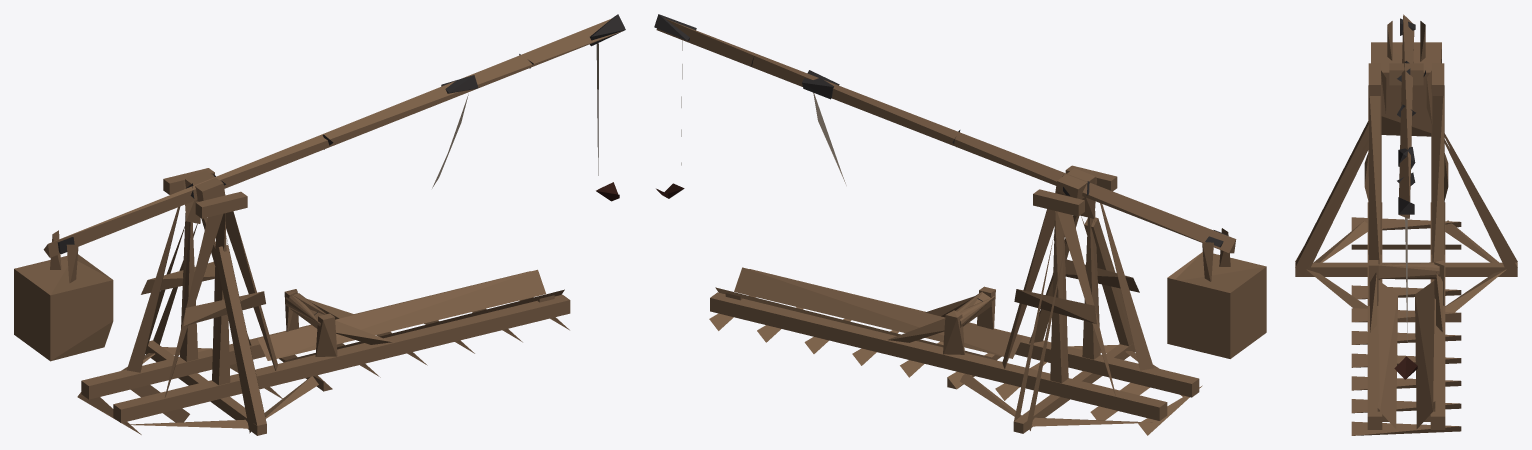
Rendered from trebuchet.zfix-v9.lod2.glb.
3 views of the same model, side by side, from view 1: azimuth 30°, elevation 25°; view 2: azimuth 150°, elevation 25°; view 3: azimuth 270°, elevation 25° (orthographic). The views are drawn at different scales.
Parts seen in each view (by area): view 1: Ropes_Ropes_0; view 2: Ropes_Ropes_0; view 3: Ropes_Ropes_0.
Part boxes in pixels (bbox=[...]): Ropes_Ropes_0: bbox=[14, 14, 625, 435]; Ropes_Ropes_0: bbox=[654, 14, 1266, 435]; Ropes_Ropes_0: bbox=[1295, 14, 1517, 435].
Bounding box in the file's own units: 24.42 × 10.95 × 8.18.
